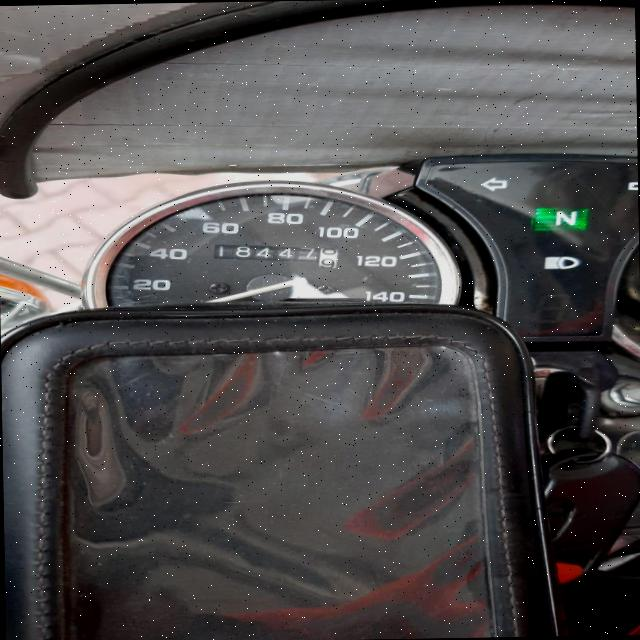odometer: (210, 241, 340, 271)
